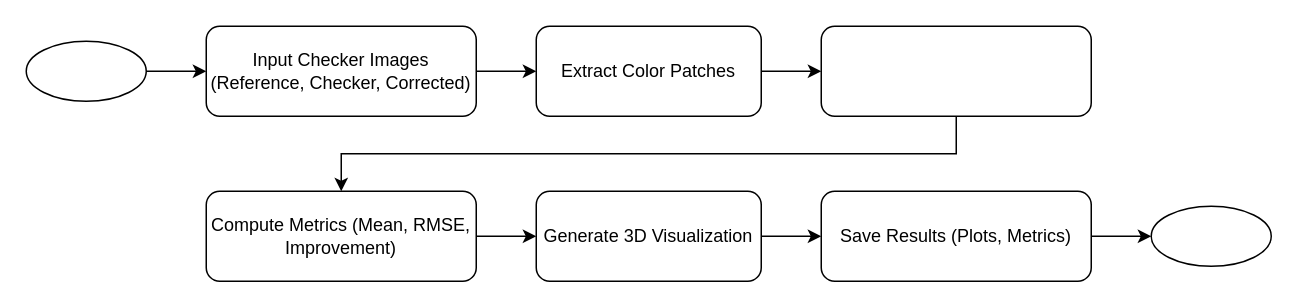
Image size: 1298x308. Some labels were removed from this diagram. Here are the shapes that lost their labels. From the top down, the centre of each, then its label:
At (85,70): "Start".
At (955,70): "Calculate Deviations (RGB)".
At (1210,235): "End".
